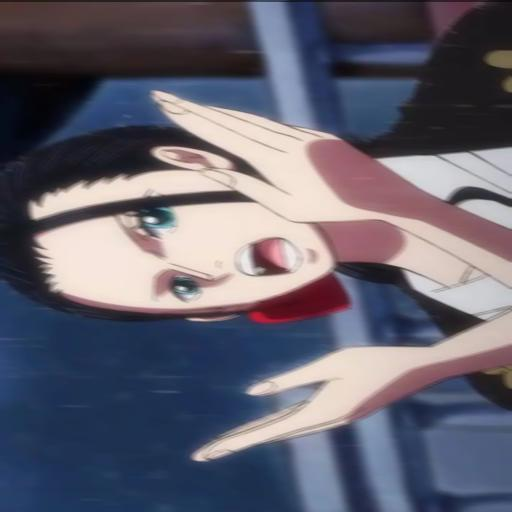NicoRobin: (0, 100, 391, 325)
